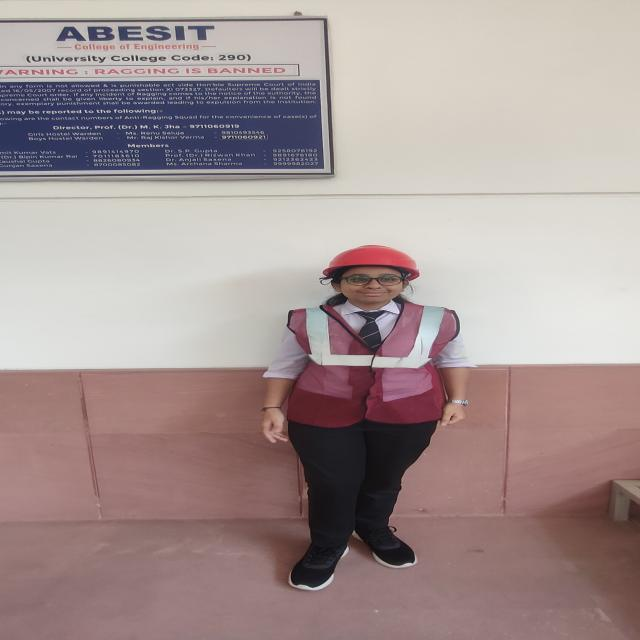safe: (262, 246, 470, 588)
